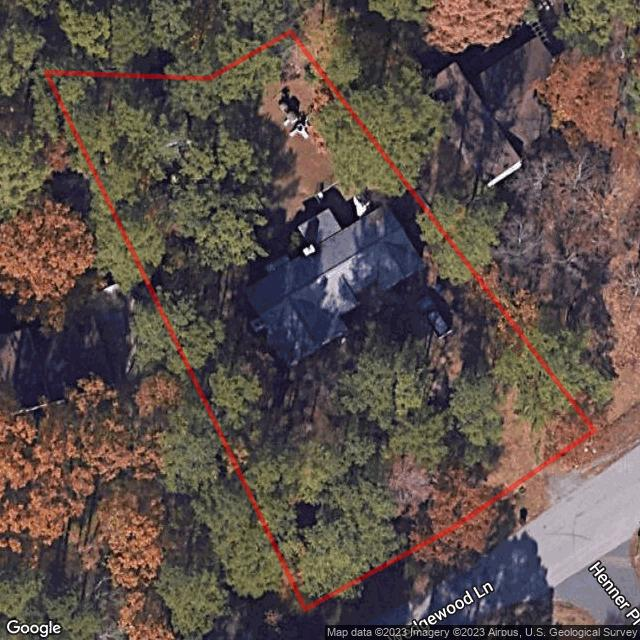Driveway: (395, 265, 588, 481)
Extra Driveway: (515, 434, 615, 521)
House: (238, 204, 434, 367)
